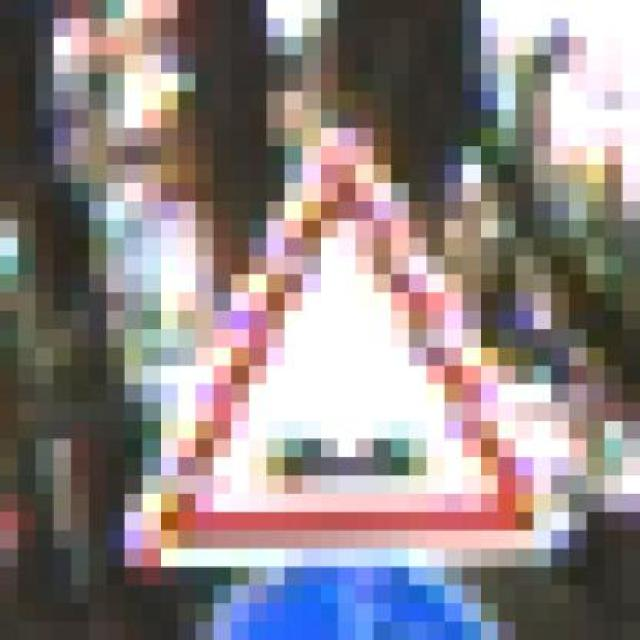Uneven Road: (107, 110, 551, 567)
